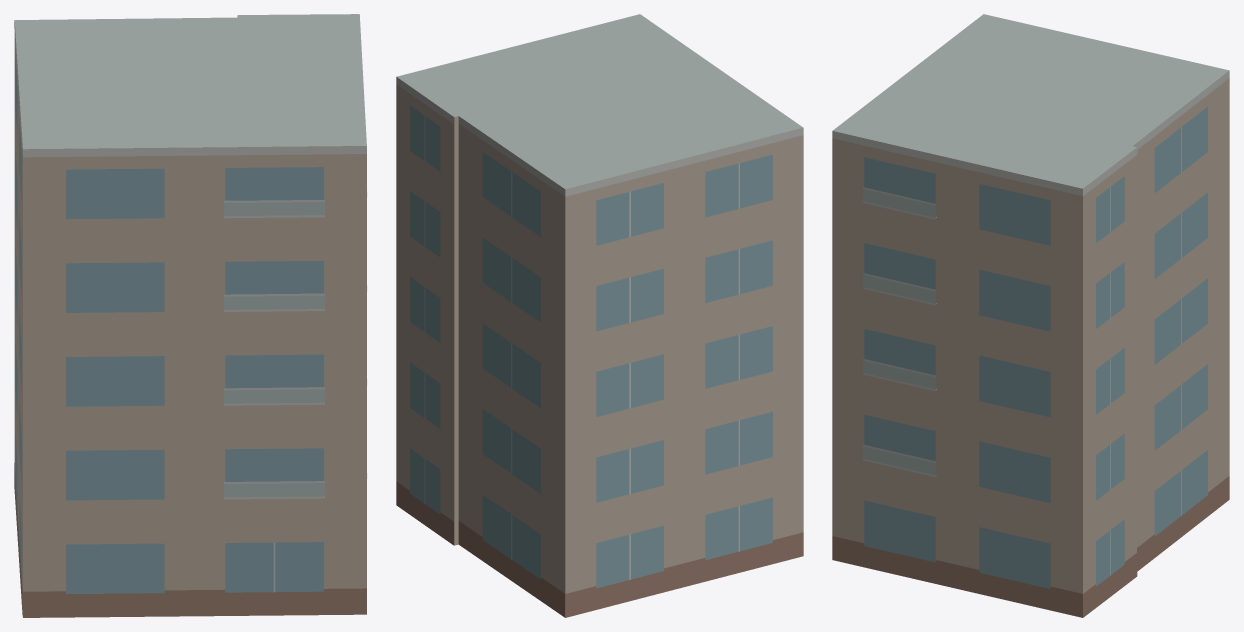
The model's file is survey-upis-32963966.glb.
3 views of the same model, side by side, from view 1: azimuth 30°, elevation 25°; view 2: azimuth 150°, elevation 25°; view 3: azimuth 270°, elevation 25° (orthographic). The views are drawn at different scales.
Visible parts, largest first — view 1: survey-upis-32963966.tmp; view 2: survey-upis-32963966.tmp; view 3: survey-upis-32963966.tmp.
Part boxes in pixels (x1,y1,x2,y2): survey-upis-32963966.tmp: (14, 14, 367, 617); survey-upis-32963966.tmp: (396, 14, 803, 617); survey-upis-32963966.tmp: (832, 14, 1229, 617).
Bounding box in the file's own units: 12.37 × 14.15 × 11.88.
